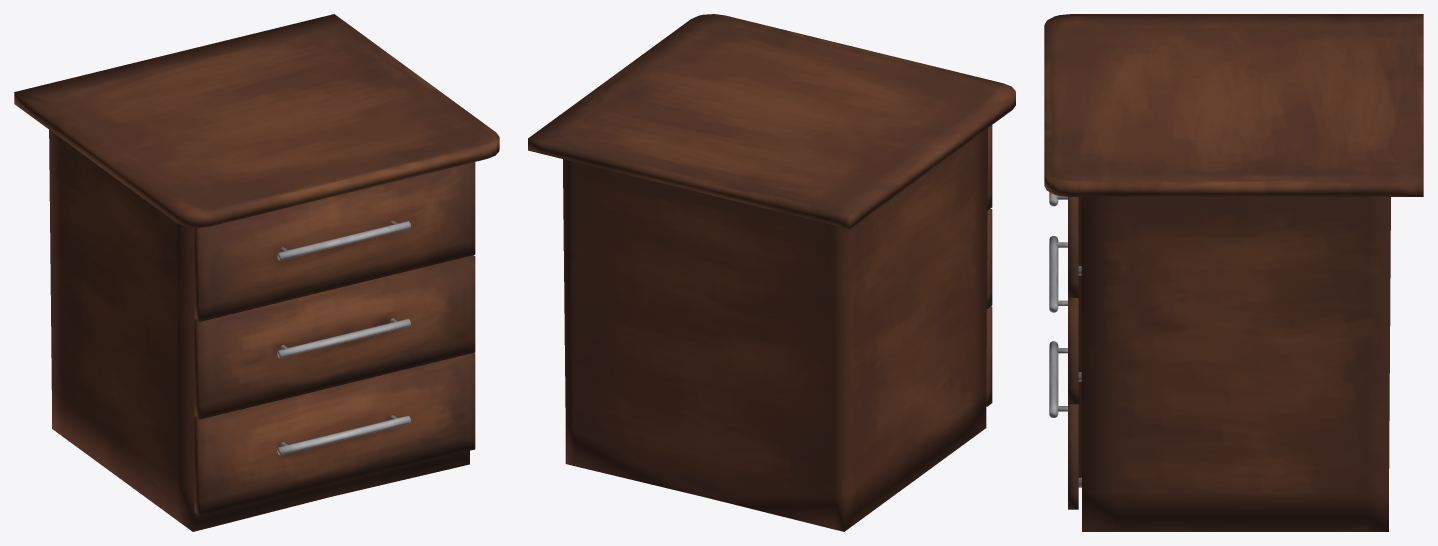
The model's file is Nochero.fbx.
The picture shows the model from 3 angles, left to right: view 1: azimuth 30°, elevation 25°; view 2: azimuth 150°, elevation 25°; view 3: azimuth 270°, elevation 25°; orthographic projection. The views are drawn at different scales.
Parts seen in each view (by area): view 1: MesaDenoche; view 2: MesaDenoche; view 3: MesaDenoche.
Part boxes in pixels (<box>): MesaDenoche: <box>14,14,499,531</box>; MesaDenoche: <box>528,14,1015,531</box>; MesaDenoche: <box>1044,14,1423,531</box>.
Size of the model in its own units: 226 by 222 by 213.
